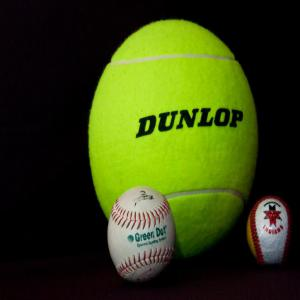TennisBall: (89, 20, 259, 262), (109, 187, 178, 284), (248, 198, 295, 264)
